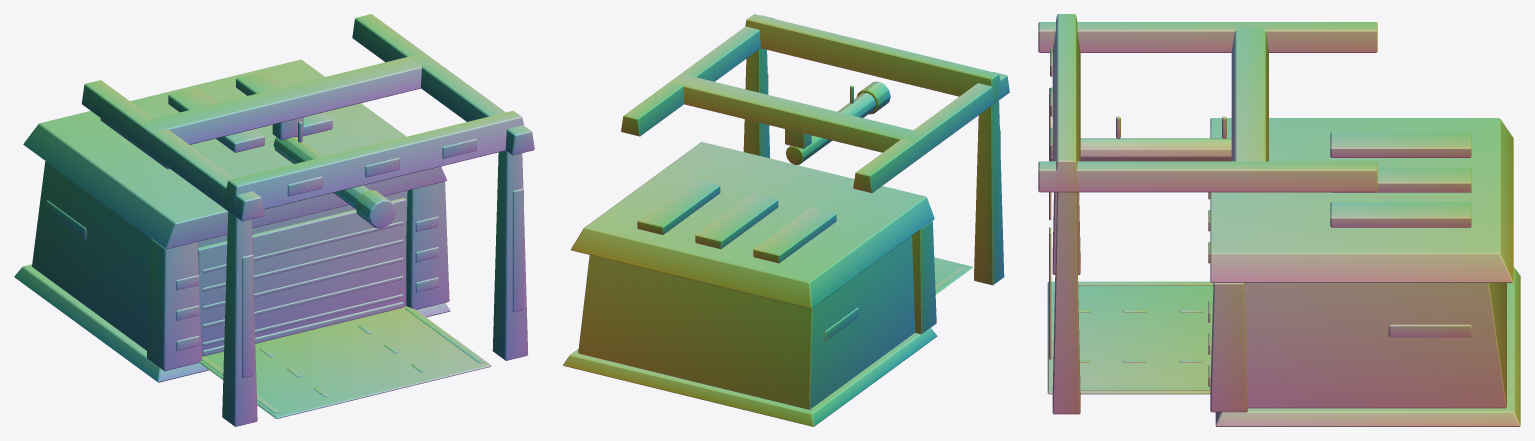
File: factory_artillery_rig.glb
3 views of the same model, side by side, from view 1: azimuth 30°, elevation 25°; view 2: azimuth 150°, elevation 25°; view 3: azimuth 270°, elevation 25° (orthographic). The views are drawn at different scales.
Parts seen in each view (by area): view 1: body, door; view 2: body; view 3: body.
Boxes of the visible parts, bbox=[...] form: body: bbox=[14, 14, 534, 426]; door: bbox=[198, 197, 406, 356]; body: bbox=[563, 14, 1009, 426]; body: bbox=[1038, 14, 1520, 426].
Size of the model in its own units: 15.2 by 12.4 by 20.48.
